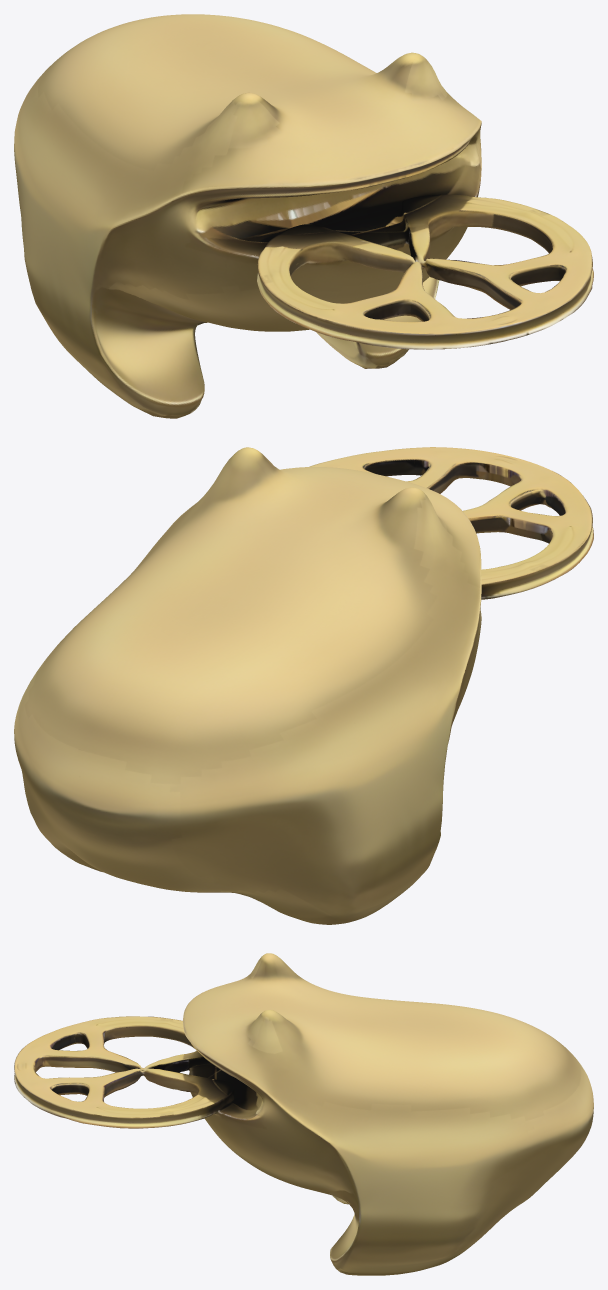
3 renders of one model, top to bottom at view 1: azimuth 30°, elevation 25°; view 2: azimuth 150°, elevation 25°; view 3: azimuth 270°, elevation 25°, orthographic. The views are drawn at different scales.
Parts seen in each view (by area): view 1: model; view 2: model; view 3: model.
Boxes of the visible parts, x1=… form: model: x1=14, y1=14, x2=593, y2=418; model: x1=14, y1=447, x2=593, y2=924; model: x1=14, y1=953, x2=593, y2=1275.
Bounding box in the file's own units: 0.9438 × 0.914 × 1.89.
1 material, 1 textured.
